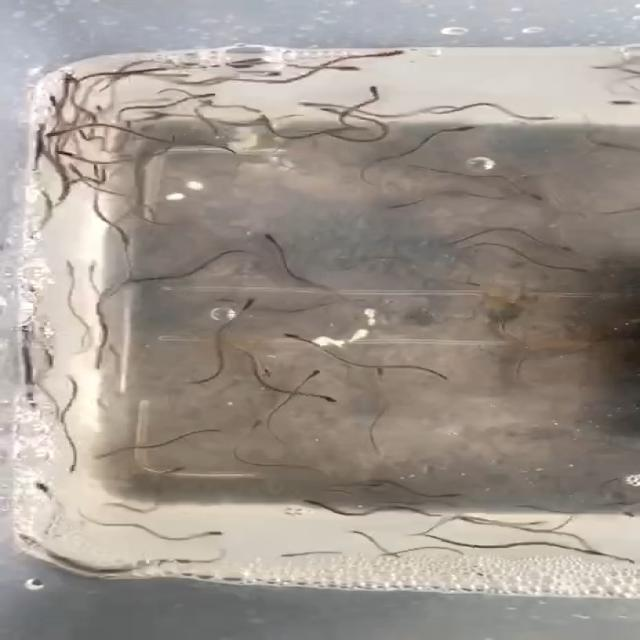inactive_glass_eel: (279, 363, 323, 383), (442, 122, 490, 137), (14, 534, 50, 553), (225, 57, 265, 74), (329, 64, 362, 83), (302, 100, 349, 113), (233, 292, 260, 314), (273, 326, 310, 342), (235, 101, 269, 118), (243, 361, 278, 376), (160, 464, 192, 480), (254, 232, 286, 248), (316, 392, 350, 407), (512, 185, 542, 202), (63, 258, 87, 276), (352, 84, 380, 99), (576, 548, 610, 560), (368, 50, 402, 62), (558, 262, 586, 276), (613, 504, 640, 518), (602, 97, 631, 109), (86, 263, 109, 278), (292, 499, 326, 509), (57, 74, 81, 88), (97, 452, 120, 466), (424, 490, 456, 500), (34, 478, 56, 492), (541, 240, 563, 254), (181, 91, 207, 102), (64, 463, 84, 477), (248, 414, 268, 428), (530, 112, 558, 122), (368, 366, 391, 378), (356, 479, 384, 488), (80, 101, 105, 111), (230, 55, 260, 63), (206, 528, 225, 540), (35, 97, 69, 103), (216, 298, 250, 304)
